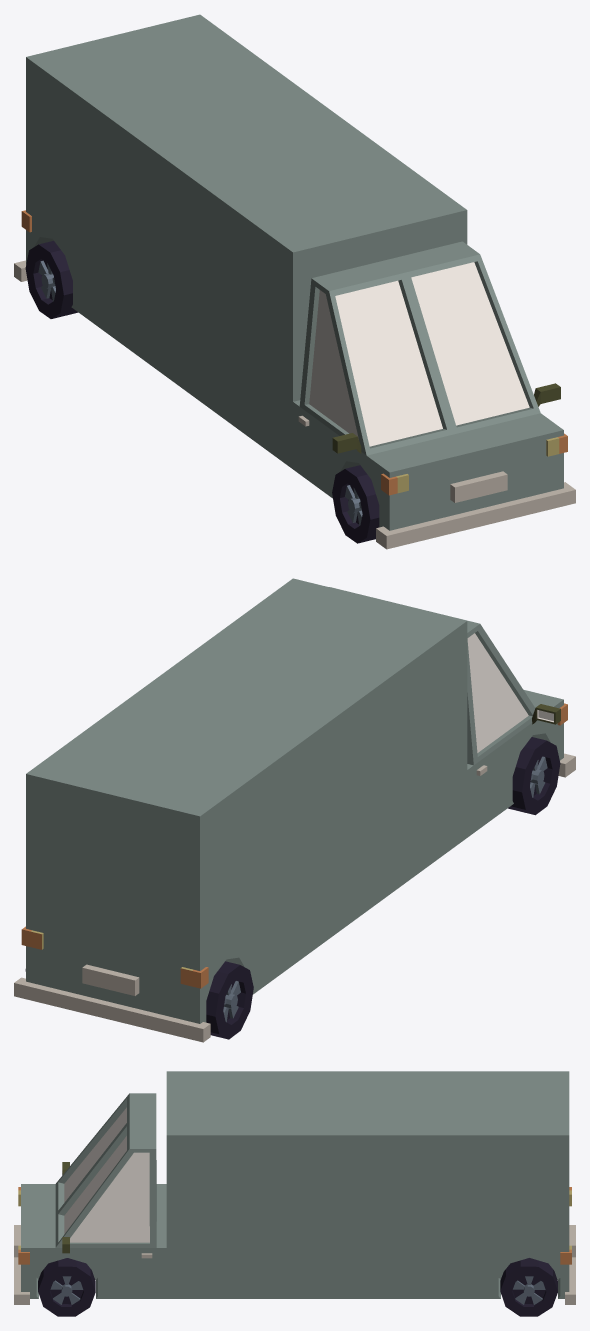
File: truck.fbx
3 views of the same model, one above another, from view 1: azimuth 30°, elevation 25°; view 2: azimuth 150°, elevation 25°; view 3: azimuth 270°, elevation 25° (orthographic). The views are drawn at different scales.
Visible parts, largest first — view 1: car 9; view 2: car 9; view 3: car 9.
Part boxes in pixels (x1,y1,x2,y2): car 9: (14,14,575,549); car 9: (14,578,575,1042); car 9: (14,1071,575,1316).
Bounding box in the file's own units: 235 × 238 × 681.
